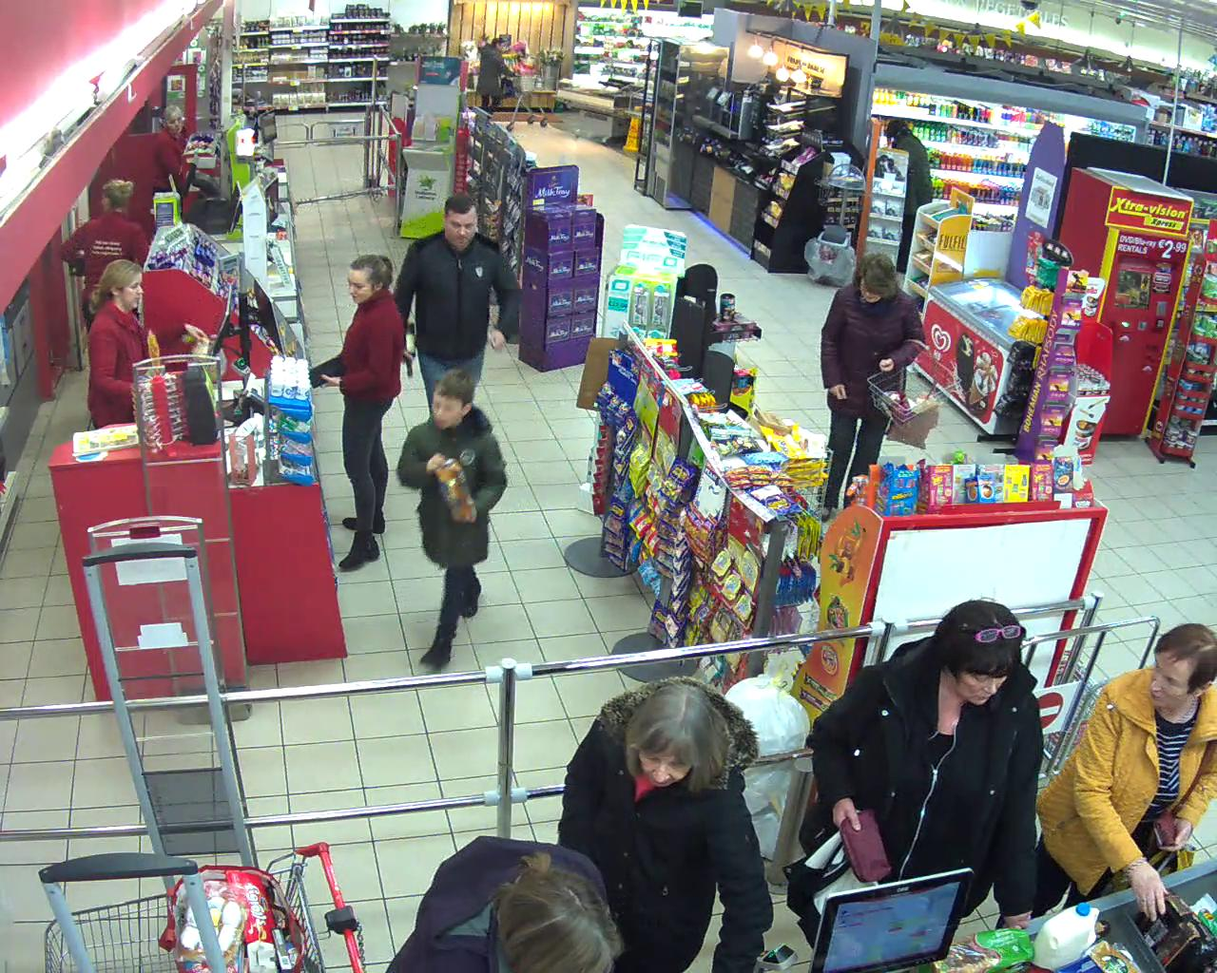filled-basket: (869, 342, 961, 422)
occupied-checkout-counter: (60, 255, 286, 430), (58, 180, 279, 274), (135, 102, 284, 181)
person: (821, 252, 927, 511)
person-with-filled-basket-trolly: (822, 251, 963, 513)
